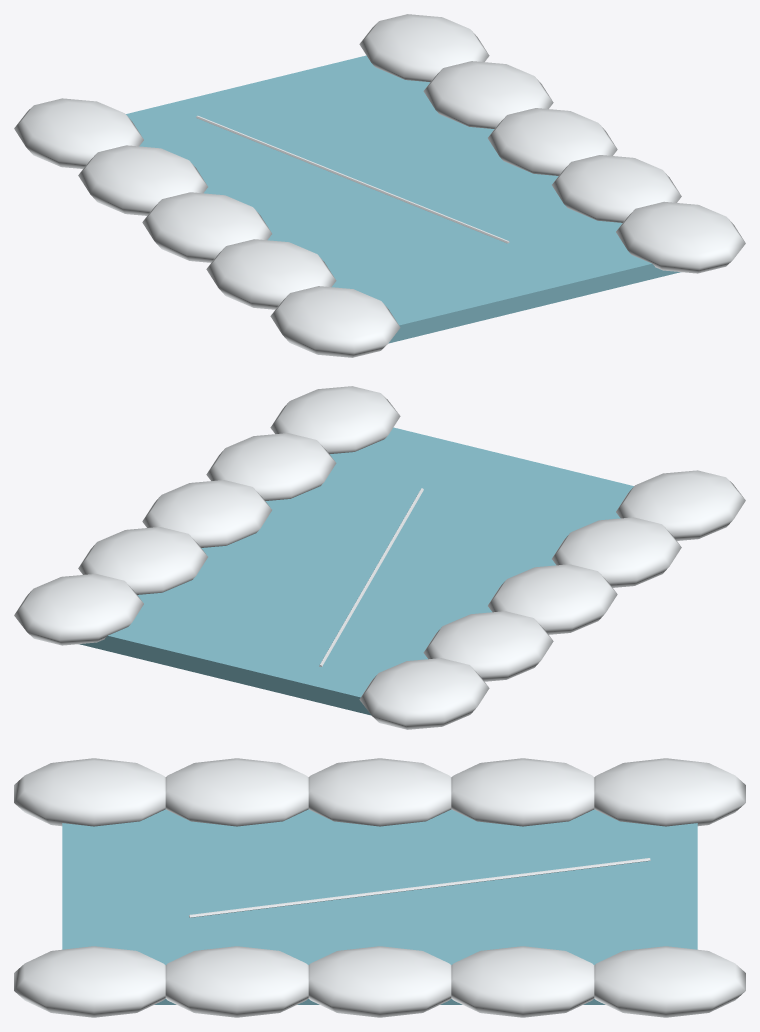
The model's file is alpine-snow-village-frozen-stream-straight-61d01944__19796.glb.
3 views of the same model, one above another, from view 1: azimuth 30°, elevation 25°; view 2: azimuth 150°, elevation 25°; view 3: azimuth 270°, elevation 25° (orthographic). The views are drawn at different scales.
Parts seen in each view (by area): view 1: frozen-stream-straight-ice, frozen-stream-straight-snow; view 2: frozen-stream-straight-ice, frozen-stream-straight-snow; view 3: frozen-stream-straight-snow, frozen-stream-straight-ice.
Boxes of the visible parts, box(x1,y1,x2,y2) form: frozen-stream-straight-ice: box(126, 55, 680, 343); frozen-stream-straight-snow: box(14, 14, 745, 357); frozen-stream-straight-ice: box(79, 427, 633, 715); frozen-stream-straight-snow: box(14, 386, 745, 729); frozen-stream-straight-snow: box(14, 758, 745, 1017); frozen-stream-straight-ice: box(62, 809, 697, 1004).
Bounding box in the file's own units: 3.66 × 0.31 × 4.61.
